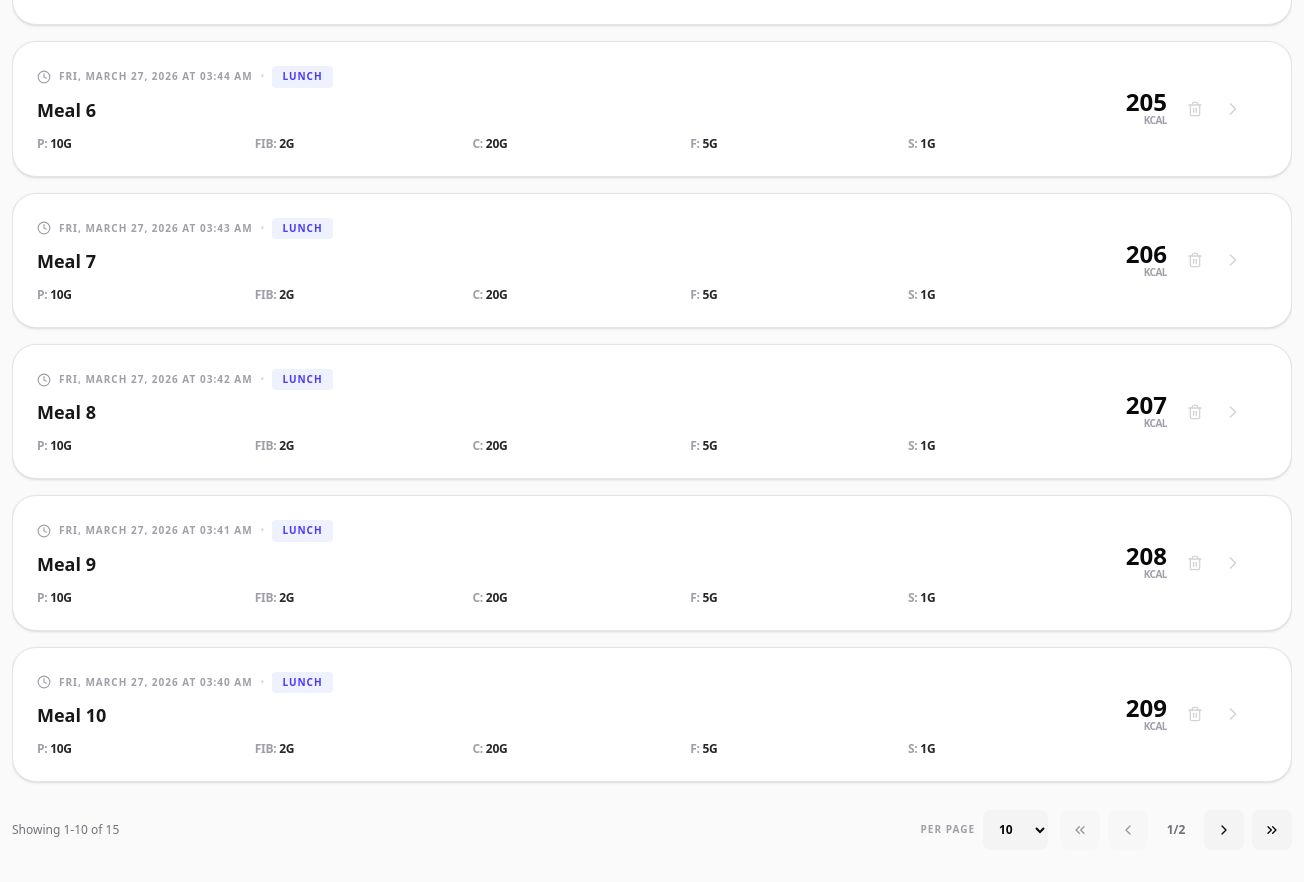
Test case: DiaryView › shows pagination with first and last page controls
(page scrolled)
Expected: the text "1/2" is shown, left=1167, top=821, right=1185, bottom=838
What coordinates should you click on to do the following:
click the button named "Last page"
I would click on:
 (1272, 830)
Its box is left=1252, top=810, right=1292, bottom=850.
(page scrolled)
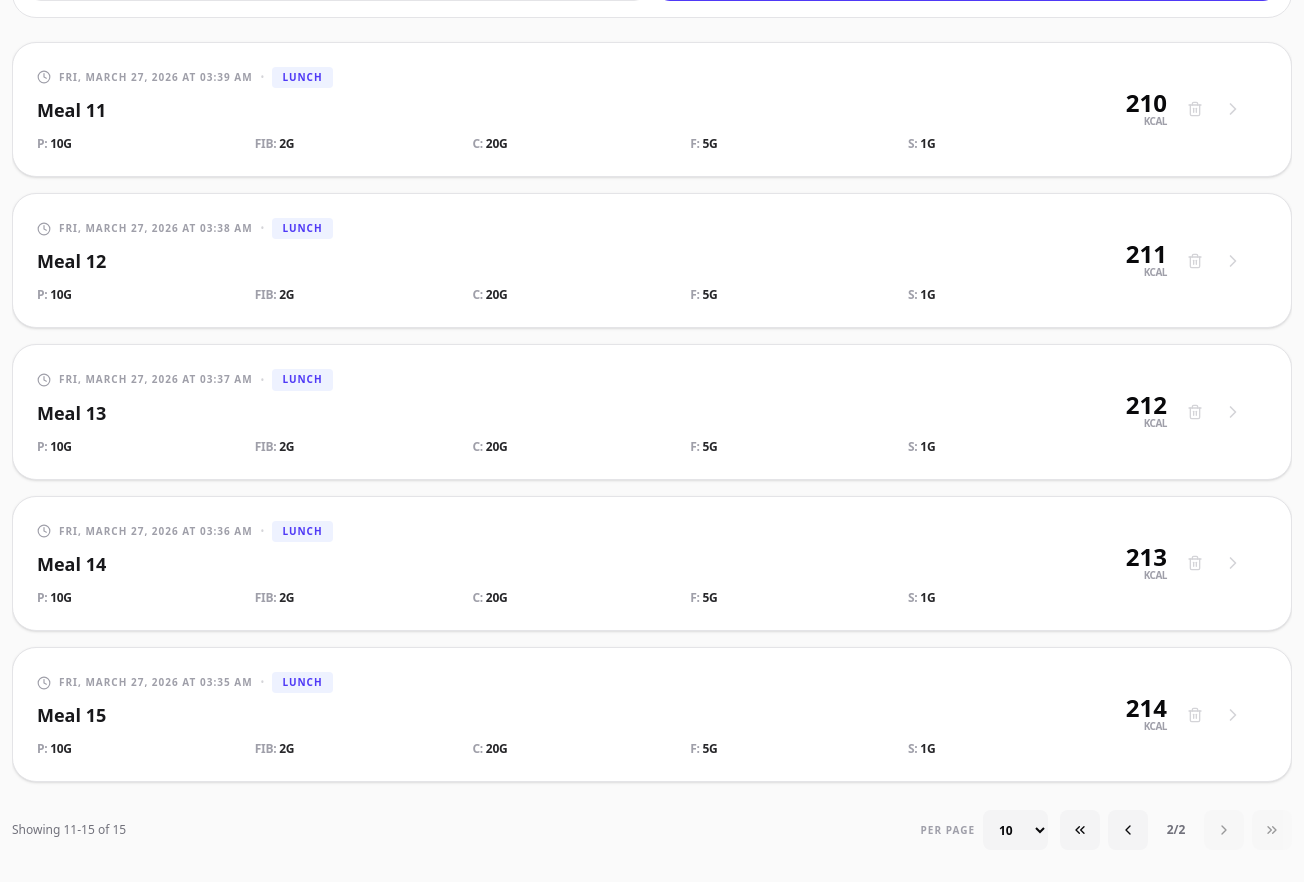
Expected: the text "2/2" is shown, left=1167, top=821, right=1185, bottom=838
What coordinates should you click on to do the following:
click the button named "First page"
I would click on:
 (1080, 830)
Its box is left=1060, top=810, right=1100, bottom=850.
(page scrolled)
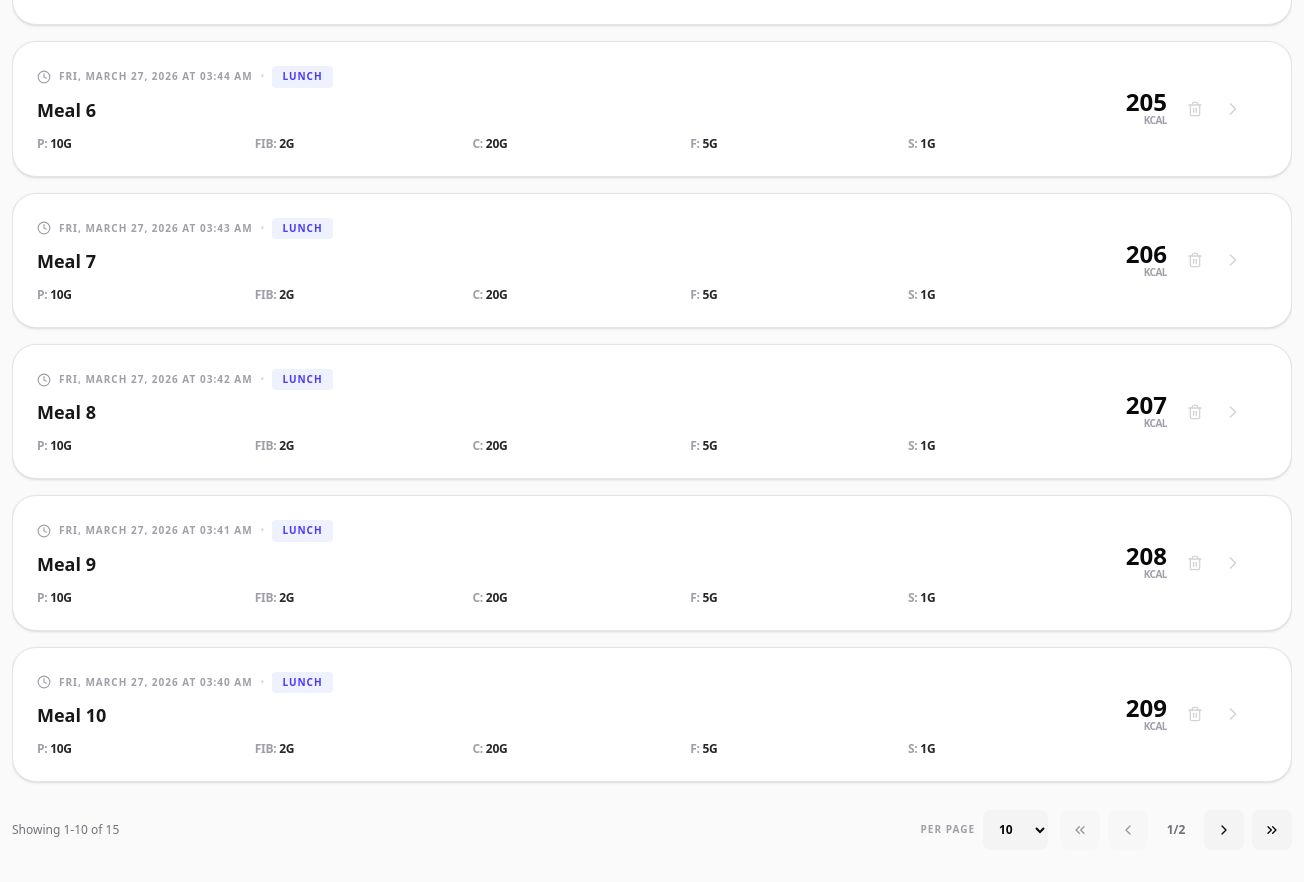
Expected: the text "1/2" is shown, left=1167, top=821, right=1185, bottom=838
